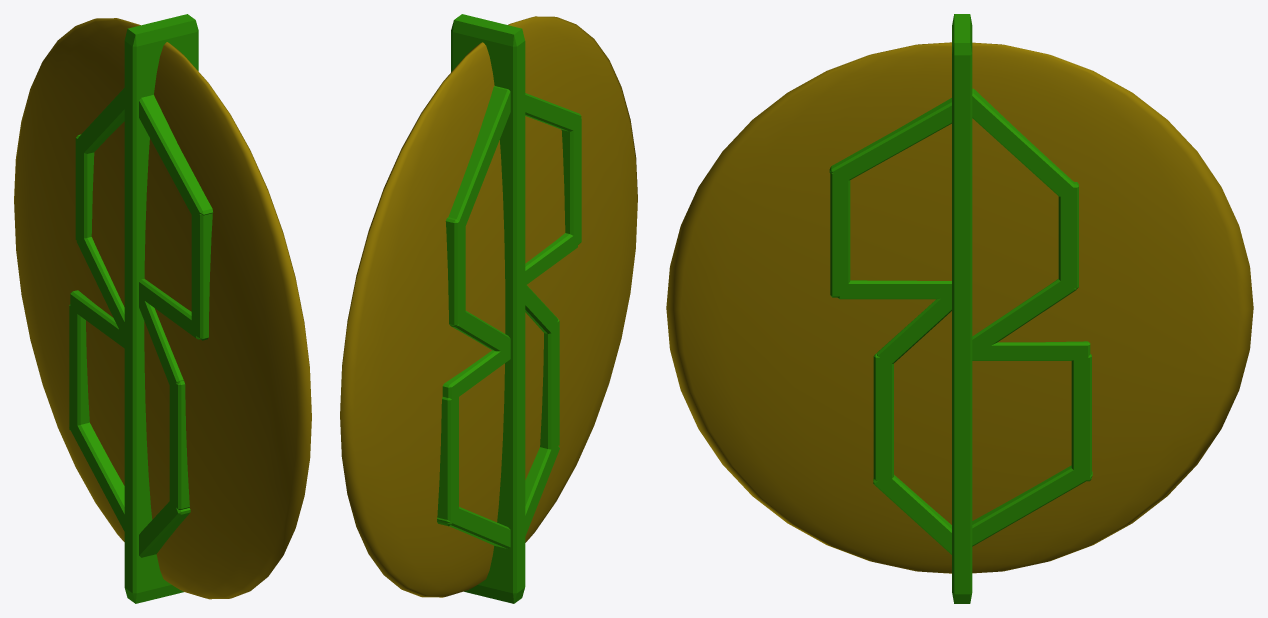
Rendered from goldcoin.fbx.
The picture shows the model from 3 angles, left to right: view 1: azimuth 30°, elevation 25°; view 2: azimuth 150°, elevation 25°; view 3: azimuth 270°, elevation 25°; orthographic projection.
Visible parts, largest first — view 1: pCube17; view 2: pCube17; view 3: pCube17.
Boxes of the visible parts, left/top/right/bottom form: pCube17: left=14, top=14, right=311, bottom=603; pCube17: left=340, top=14, right=637, bottom=603; pCube17: left=666, top=14, right=1253, bottom=603.
Bounding box in the file's own units: 109 × 896 × 850.
